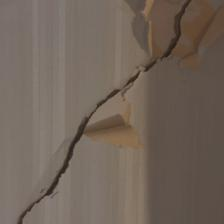Medium: (15, 17, 191, 217)
